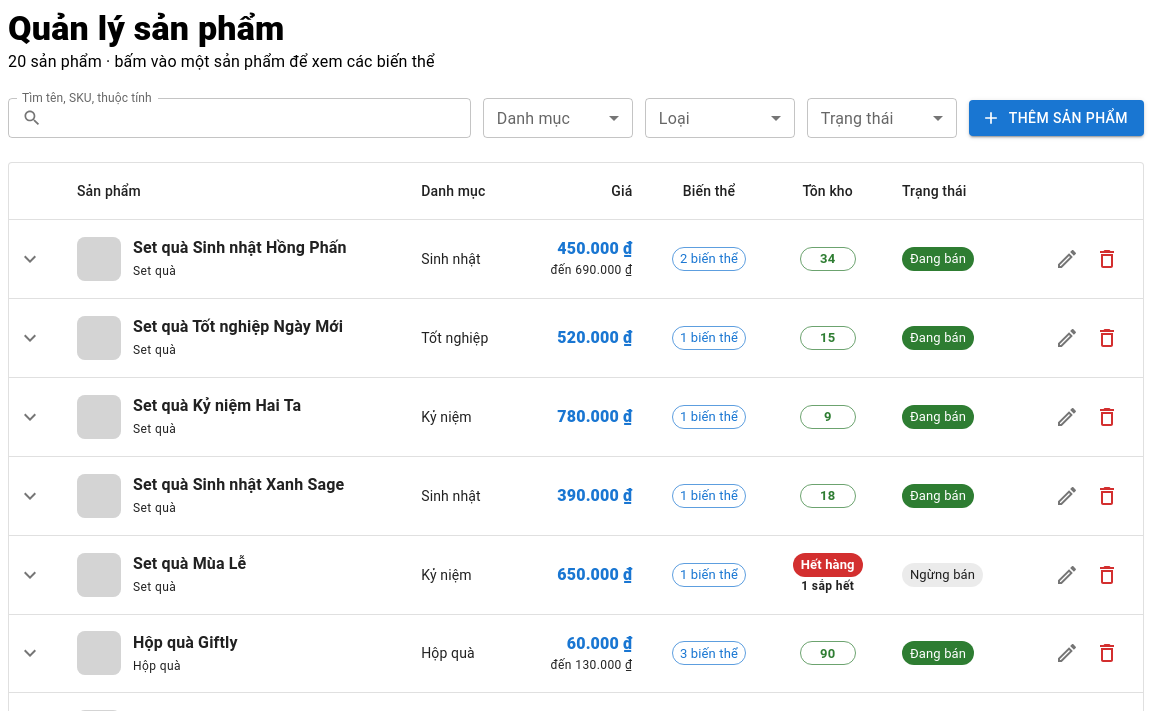
Scenario: AdminProductsPage (cha–biến thể) › tìm theo SKU của biến thể và lọc ra đúng sản phẩm cha
Type "candle-200" into the field labelled "Tìm tên, SKU, thuộc tính" at [260, 118], box [50, 98, 471, 138]
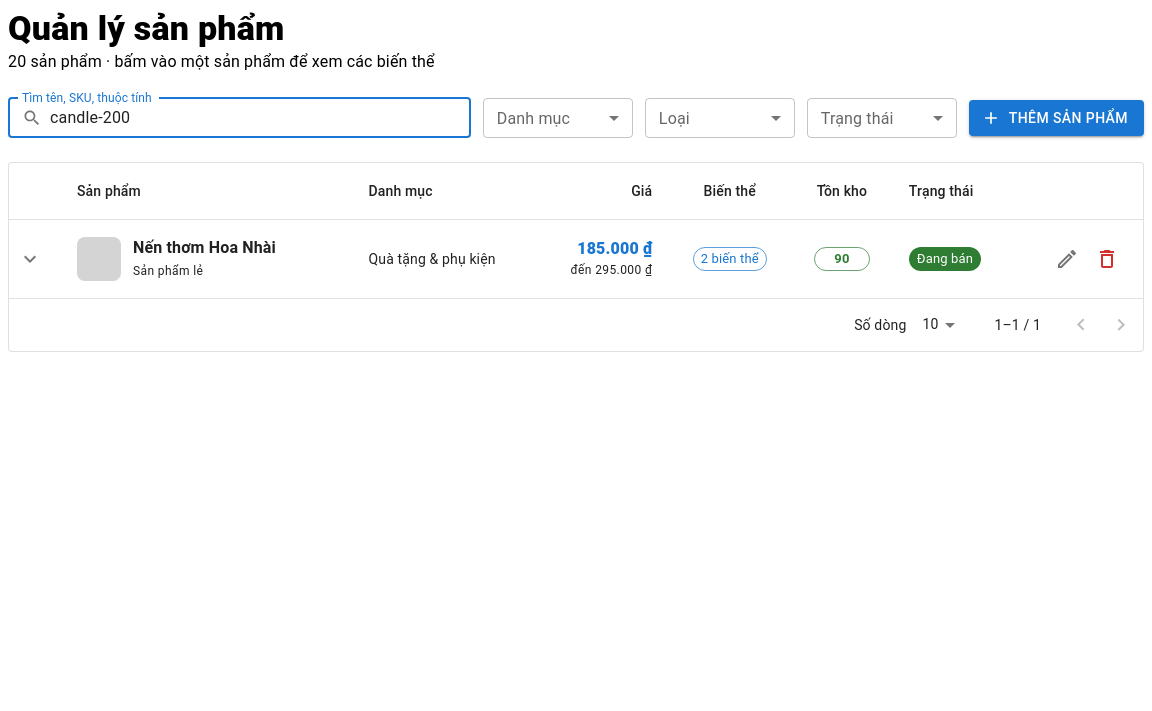
Expected: the row "Nến thơm Hoa Nhài" is shown, [9, 220, 1143, 298]
